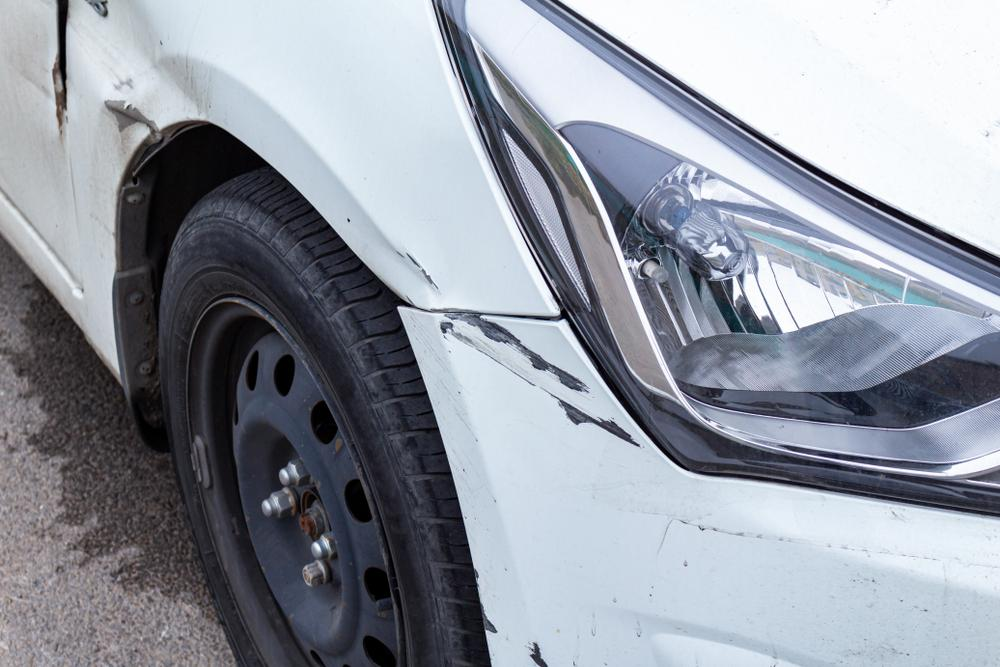dent: (67, 0, 206, 133)
scratch: (437, 309, 641, 442)
